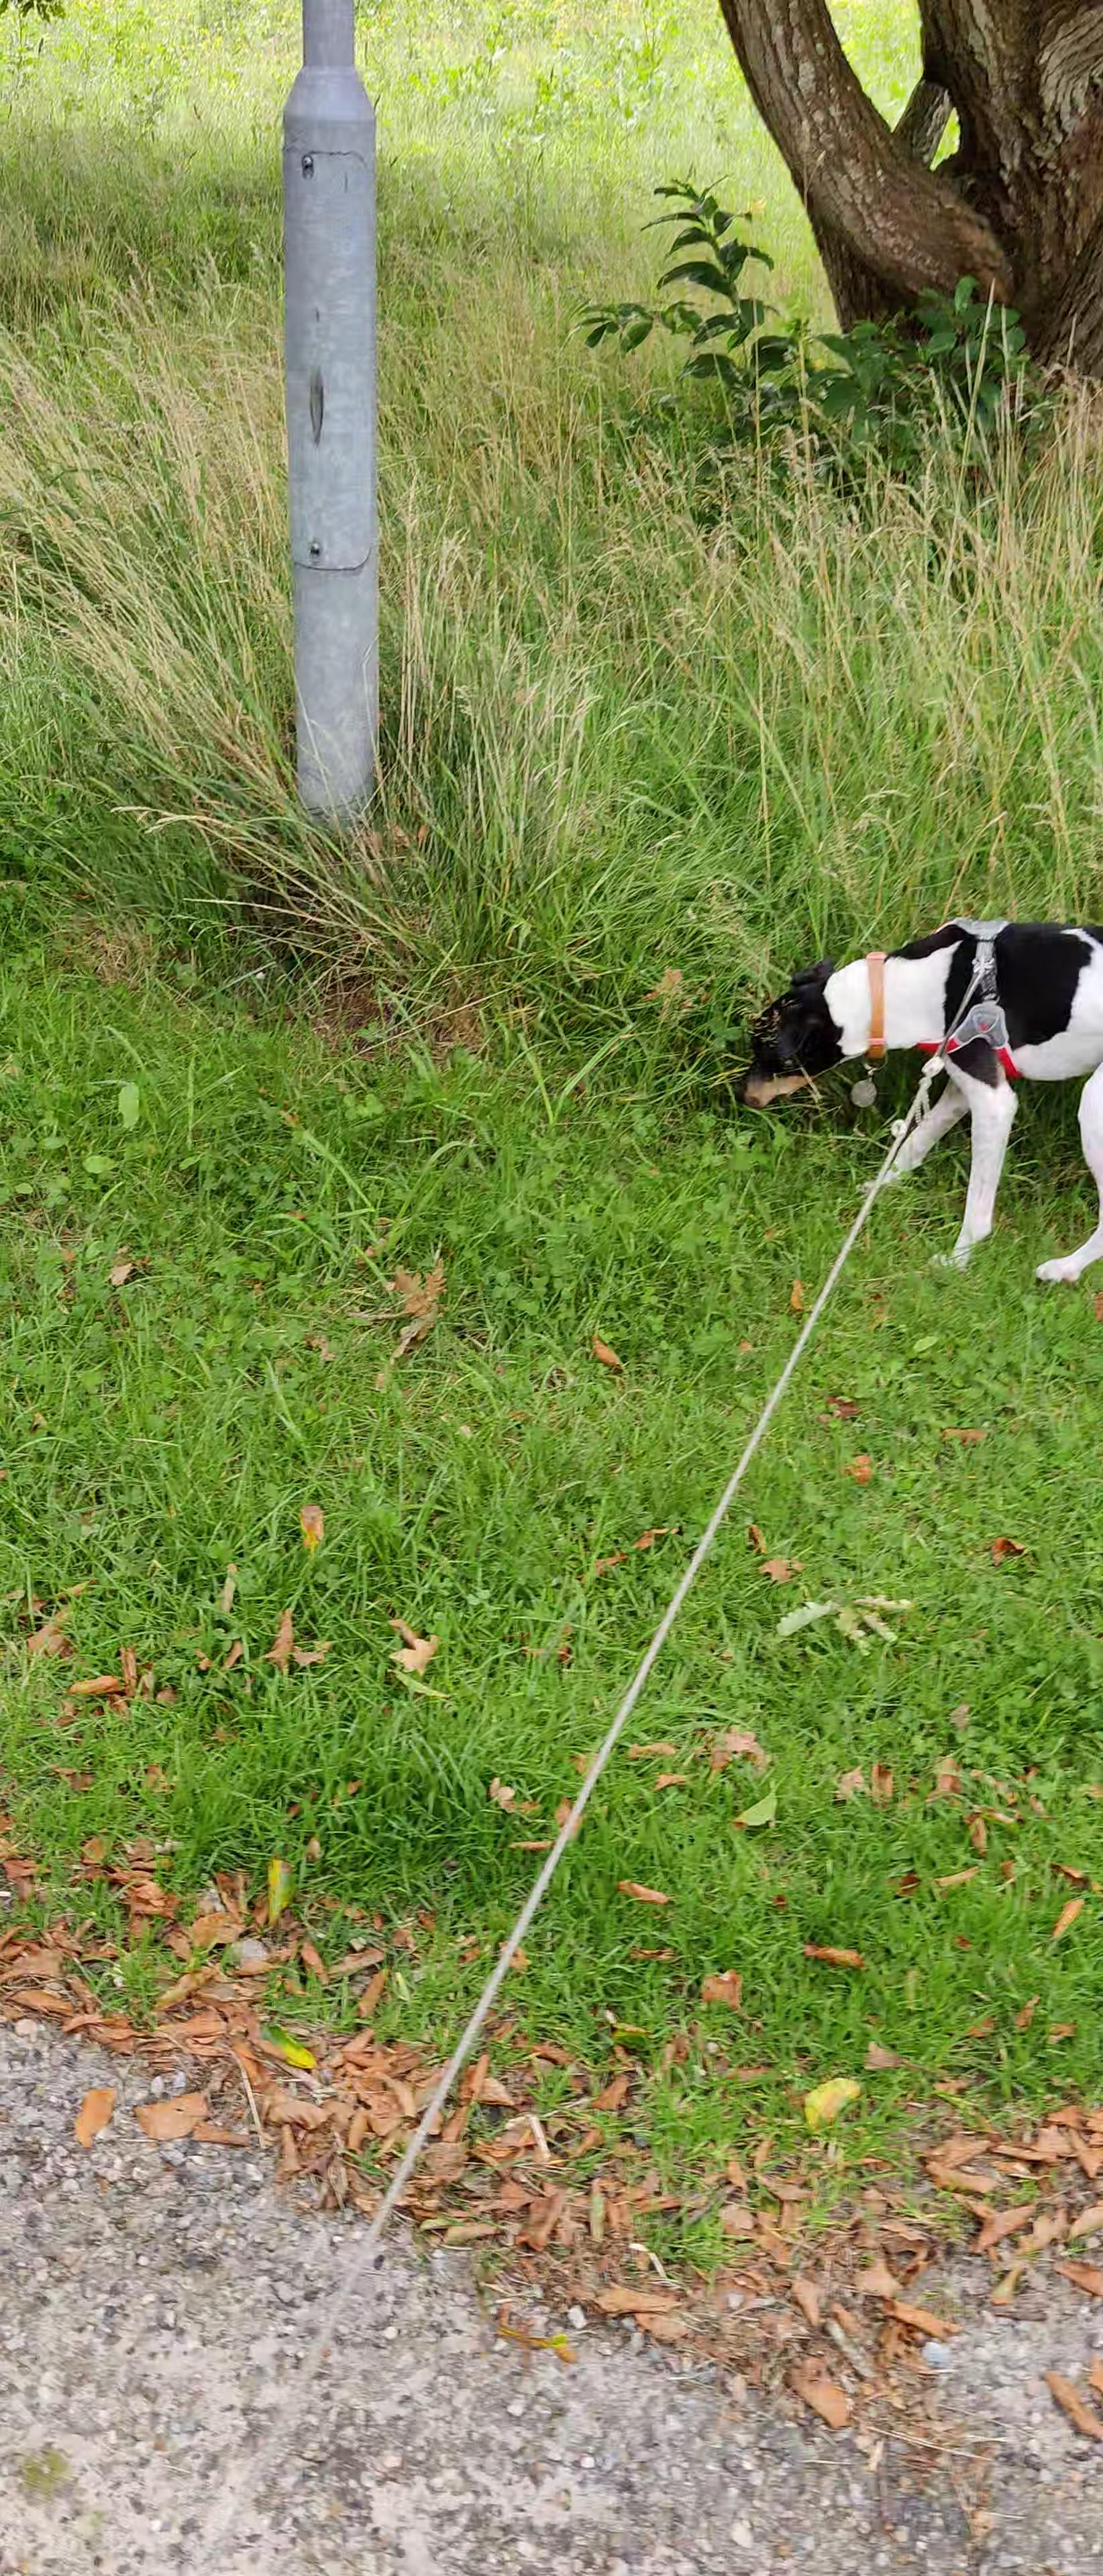Dog: (712, 871, 1103, 1311)
